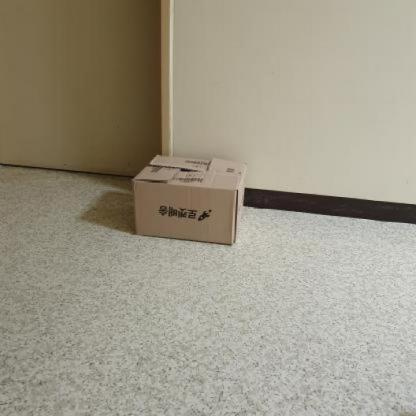-: (128, 146, 255, 256)
